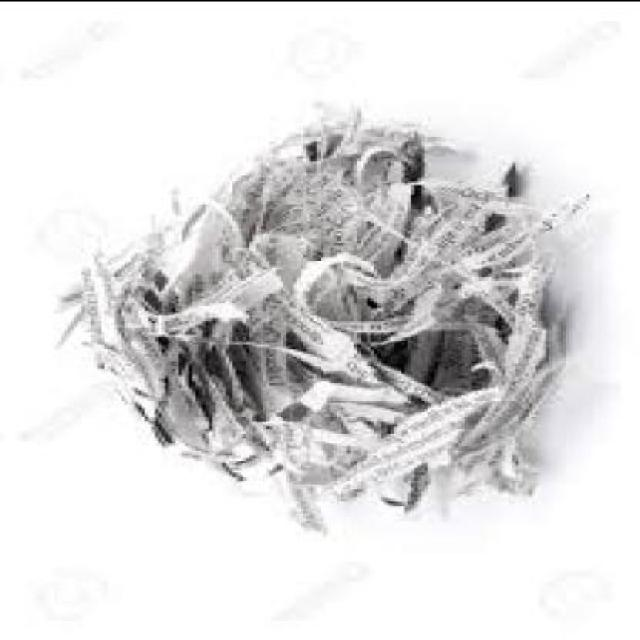PAPER: (51, 97, 589, 529)
